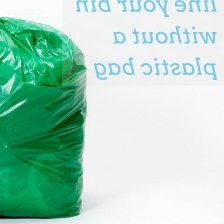plastic_bag: (0, 14, 88, 220)
